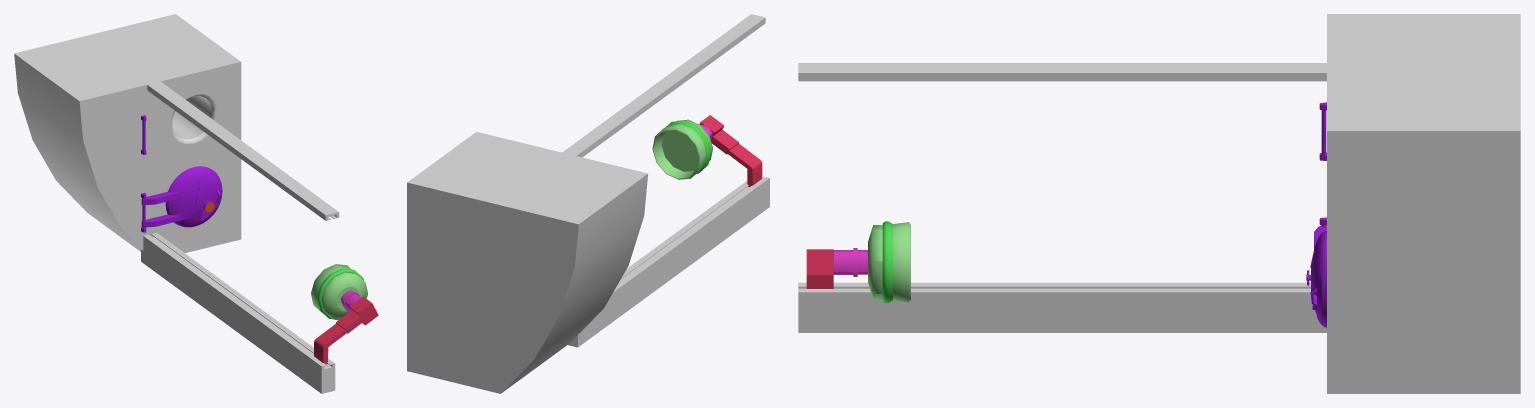
File: SM_Loader.fbx
The picture shows the model from 3 angles, left to right: view 1: azimuth 30°, elevation 25°; view 2: azimuth 150°, elevation 25°; view 3: azimuth 270°, elevation 25°; orthographic projection. The views are drawn at different scales.
Visible parts, largest first — view 1: Cylinder.001; view 2: Cylinder.001; view 3: Cylinder.001.
Part boxes in pixels (left/top/right/bottom): Cylinder.001: left=14, top=14, right=378, bottom=393; Cylinder.001: left=407, top=14, right=769, bottom=393; Cylinder.001: left=798, top=14, right=1520, bottom=393.
Bounding box in the file's own units: 271 × 285 × 707.
